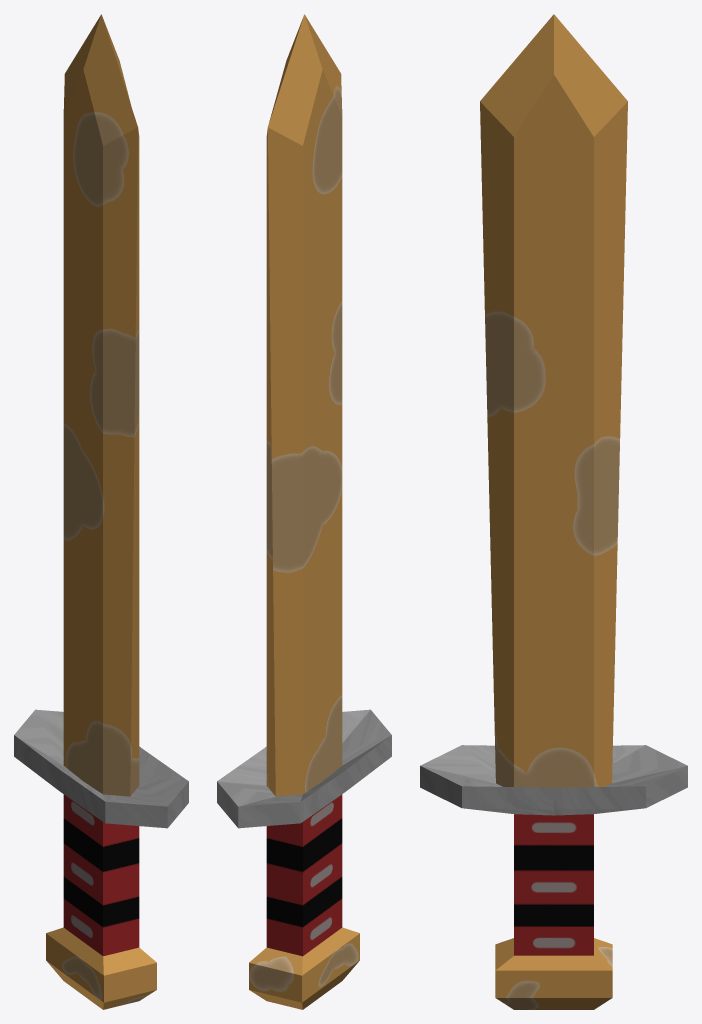
Rendered from Basic_Sword.fbx.
The picture shows the model from 3 angles, left to right: view 1: azimuth 30°, elevation 25°; view 2: azimuth 150°, elevation 25°; view 3: azimuth 270°, elevation 25°; orthographic projection.
Parts seen in each view (by area): view 1: pCube2; view 2: pCube2; view 3: pCube2.
Part boxes in pixels (x1,y1,x2,y2): pCube2: (14, 14, 188, 1009); pCube2: (217, 14, 391, 1009); pCube2: (420, 14, 687, 1009).
Bounding box in the file's own units: 0.0963 × 1.08 × 0.2644.
